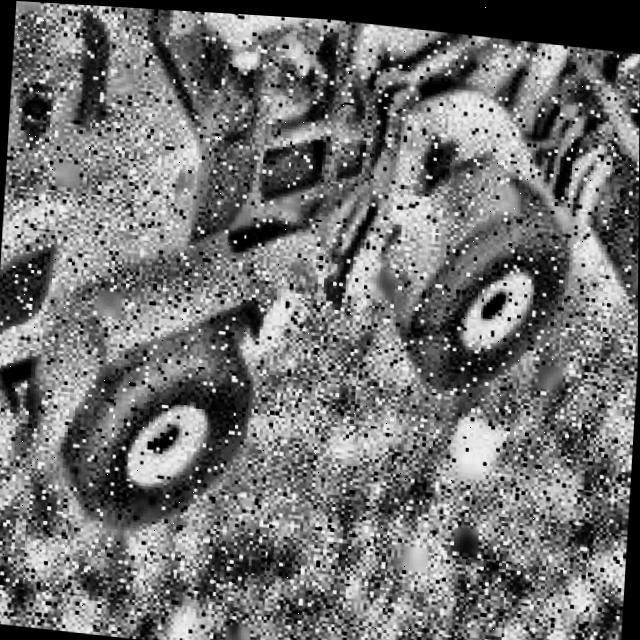buldozerpayloadergrader: (0, 0, 640, 631)
